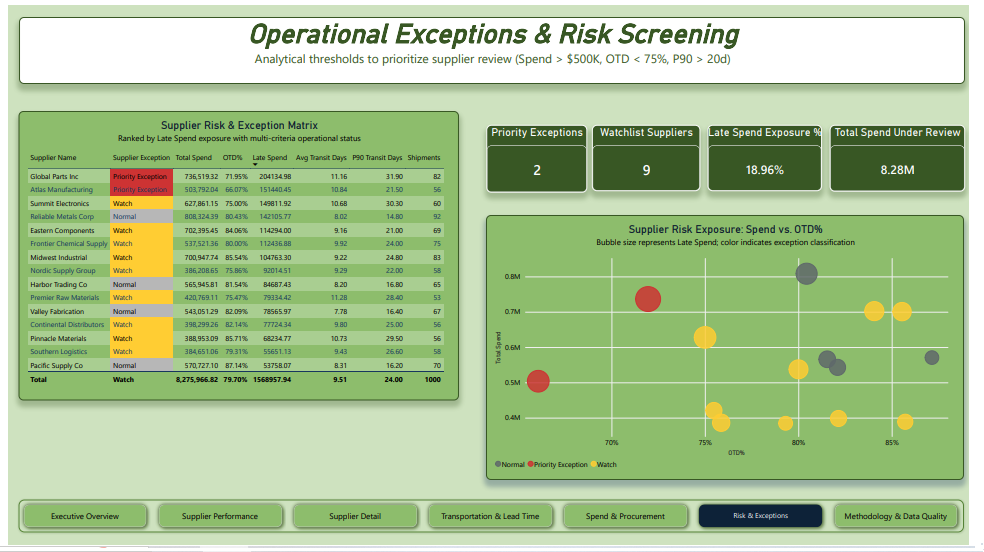

The page's visual inventory and layout, read from the dashboard file:
{"tool":"powerbi","page":{"name":"Risk & Exceptions","canvas":[1920,1080],"ordinal":5},"visuals":[{"type":"textbox","title":"Operational Exceptions & Risk Screening","box":[22,24,1890,134],"z":0},{"type":"cardVisual","title":"Priority Exceptions","fields":{"Data":["_Measures.Priority Exceptions"]},"box":[956,240,201,135],"z":1000},{"type":"cardVisual","title":"Watchlist Suppliers","fields":{"Data":["_Measures.Watch Exceptions"]},"box":[1167,240,216,132],"z":2000},{"type":"cardVisual","title":"Total Spend Under Review","fields":{"Data":["_Measures.Total Spend"]},"box":[1642,240,270,133],"z":3000},{"type":"tableEx","title":"Supplier Risk & Exception Matrix","fields":{"Values":["DimSupplier.Supplier Name","_Measures.Supplier Exception","_Measures.Total Spend","_Measures.OTD%","_Measures.Late Spend","_Measures.Avg Transit Days","_Measures.P90 Transit Days","_Measures.Shipments"]},"box":[21,212,880,579],"z":4000},{"type":"scatterChart","title":"Supplier Risk Exposure: Spend vs. OTD%","fields":{"Category":["DimSupplier.Supplier Name"],"Series":["DimSupplier.Supplier Exception Col"],"Size":["_Measures.Late Spend"],"X":["_Measures.OTD%"],"Y":["_Measures.Total Spend"]},"box":[955,420,955,530],"z":5000},{"type":"cardVisual","title":"Late Spend Exposure %","fields":{"Data":["_Measures.Late Spend %"]},"box":[1398,240,228,132],"z":6000},{"type":"pageNavigator","box":[21,989,1889,66],"z":6001}]}

Visuals, with their boxes in screenshot pixels (x1, y1, x2, y2), scaled from the page's 1920x1080 canvas onto the 984x552 screenshot:
"Operational Exceptions & Risk Screening" textbox: box(11, 12, 980, 81)
"Priority Exceptions" cardVisual: box(490, 123, 593, 192)
"Watchlist Suppliers" cardVisual: box(598, 123, 709, 190)
"Total Spend Under Review" cardVisual: box(842, 123, 980, 191)
"Supplier Risk & Exception Matrix" tableEx: box(11, 108, 462, 404)
"Supplier Risk Exposure: Spend vs. OTD%" scatterChart: box(489, 215, 979, 486)
"Late Spend Exposure %" cardVisual: box(716, 123, 833, 190)
pageNavigator: box(11, 505, 979, 539)
